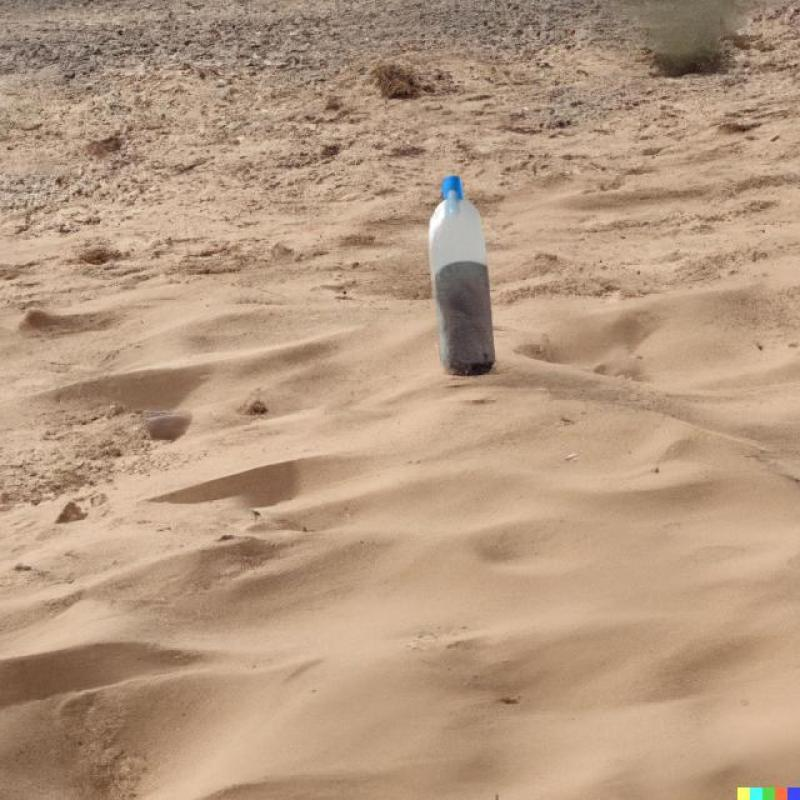botella: (427, 178, 497, 380)
